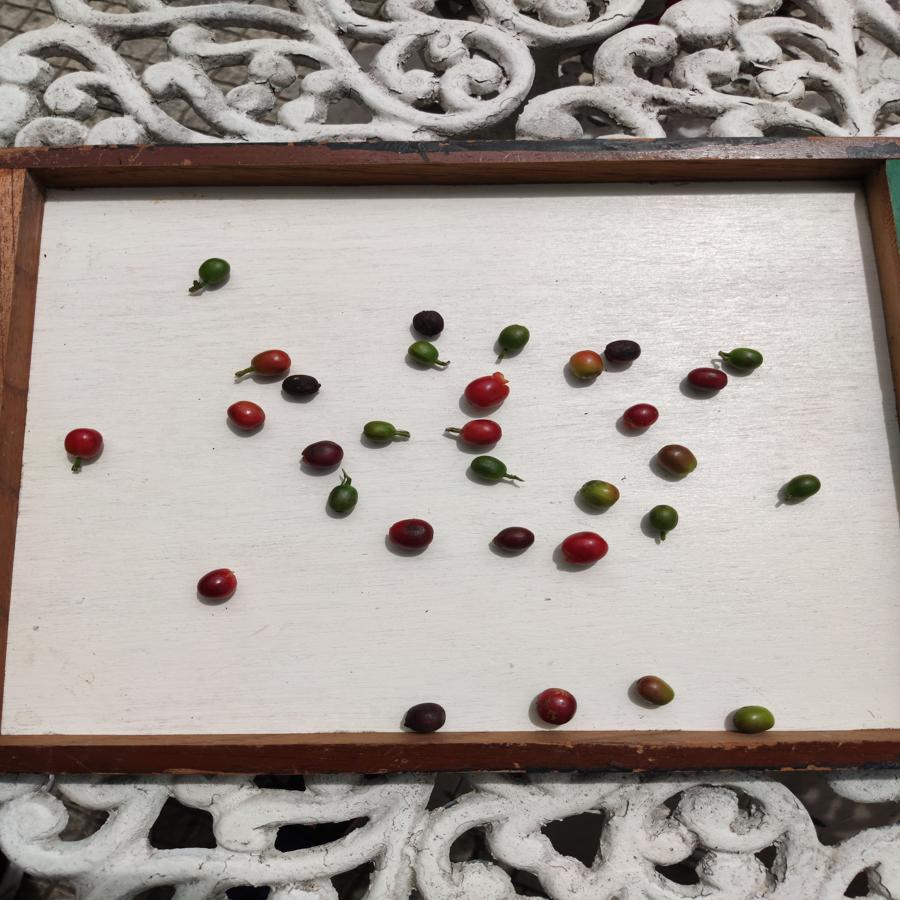Inmaduro: (781, 471, 825, 507), (647, 499, 682, 544), (196, 251, 234, 291), (323, 481, 362, 519), (469, 453, 509, 489), (361, 416, 401, 451), (493, 319, 531, 355), (721, 344, 765, 373), (407, 339, 441, 369)
Maduro: (557, 528, 611, 567), (62, 425, 109, 464), (462, 374, 513, 409), (247, 341, 295, 376), (223, 397, 267, 435), (454, 417, 509, 447), (623, 400, 661, 433)
Pinton: (726, 703, 780, 734), (657, 443, 703, 479), (579, 477, 623, 513), (565, 350, 605, 385), (635, 673, 677, 705)
Sobremaduro: (192, 563, 246, 607), (529, 685, 581, 729), (386, 517, 436, 555), (297, 436, 345, 469), (491, 524, 537, 558), (402, 701, 448, 734), (683, 366, 730, 397), (409, 305, 451, 339), (603, 339, 647, 367), (283, 372, 324, 399)
